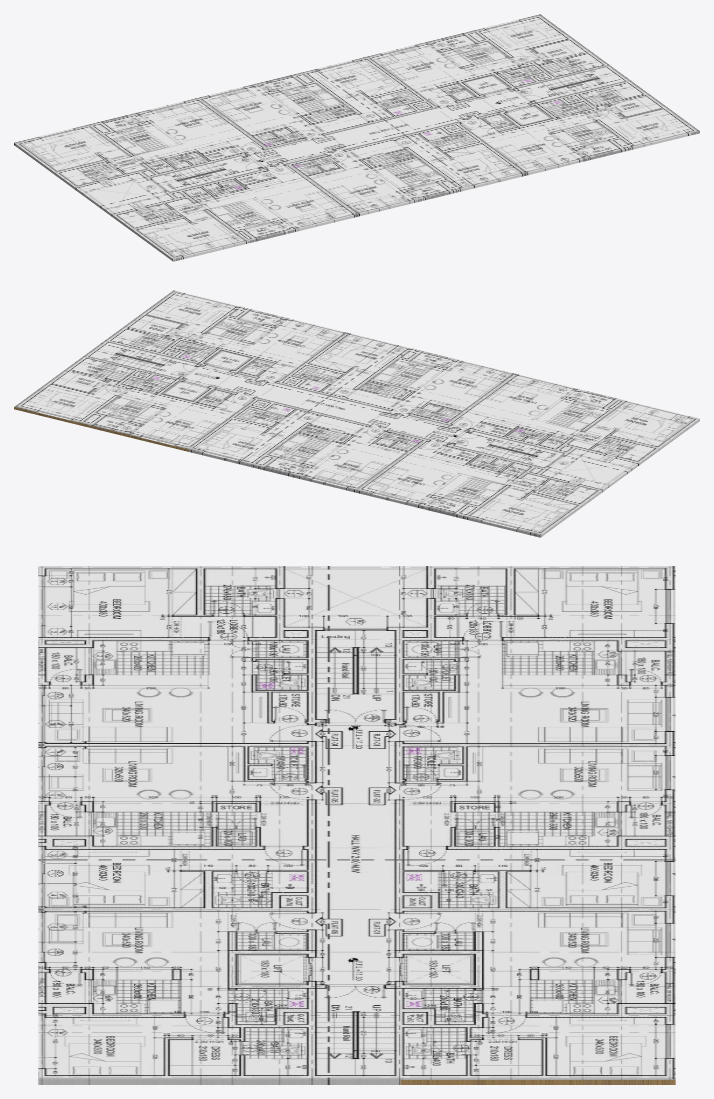
Rendered from Fourth floor plans.compressed.glb.
3 renders of one model, top to bottom at view 1: azimuth 30°, elevation 25°; view 2: azimuth 150°, elevation 25°; view 3: azimuth 270°, elevation 25°, orthographic. The views are drawn at different scales.
Parts seen in each view (by area): view 1: HALL WAY.004; view 2: HALL WAY.004, flat-01.004; view 3: HALL WAY.004, flat-01.004.
Boxes of the visible parts, x1,y1,x2,y2 form: HALL WAY.004: (14, 14, 699, 261); HALL WAY.004: (14, 290, 699, 537); flat-01.004: (14, 407, 188, 451); HALL WAY.004: (38, 566, 675, 1084); flat-01.004: (400, 1080, 675, 1084).
Size of the model in its own units: 10.9 by 0.0488 by 5.71.
Materials: 2 (2 with a texture image).
